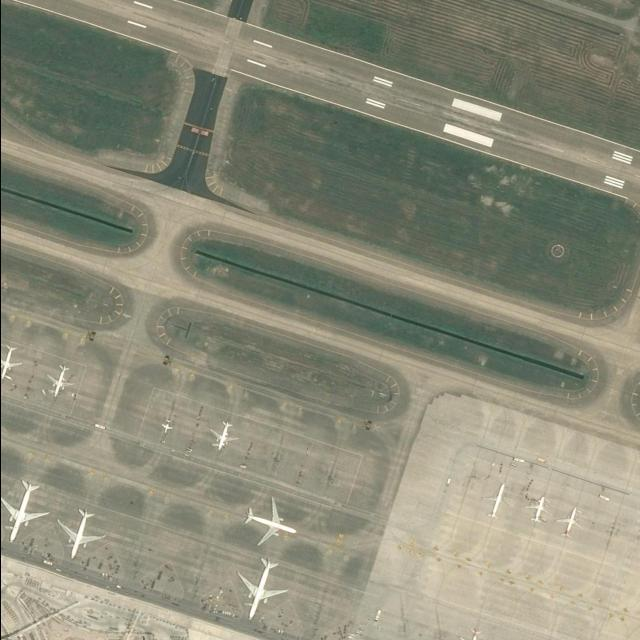Aircraft: (235, 557, 286, 623), (1, 479, 49, 544), (242, 497, 296, 548), (56, 505, 105, 558), (481, 479, 509, 521), (209, 418, 239, 454), (46, 363, 74, 398), (556, 506, 582, 539), (523, 493, 549, 525), (1, 343, 23, 379), (460, 627, 488, 640), (160, 417, 176, 435)
